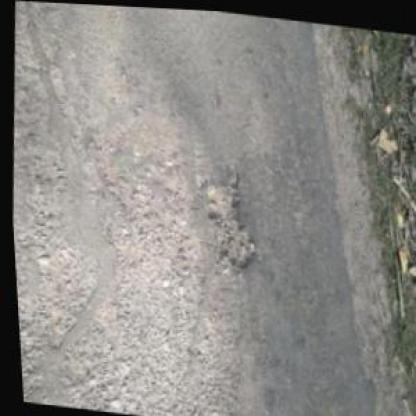pothole: (194, 170, 261, 270)
